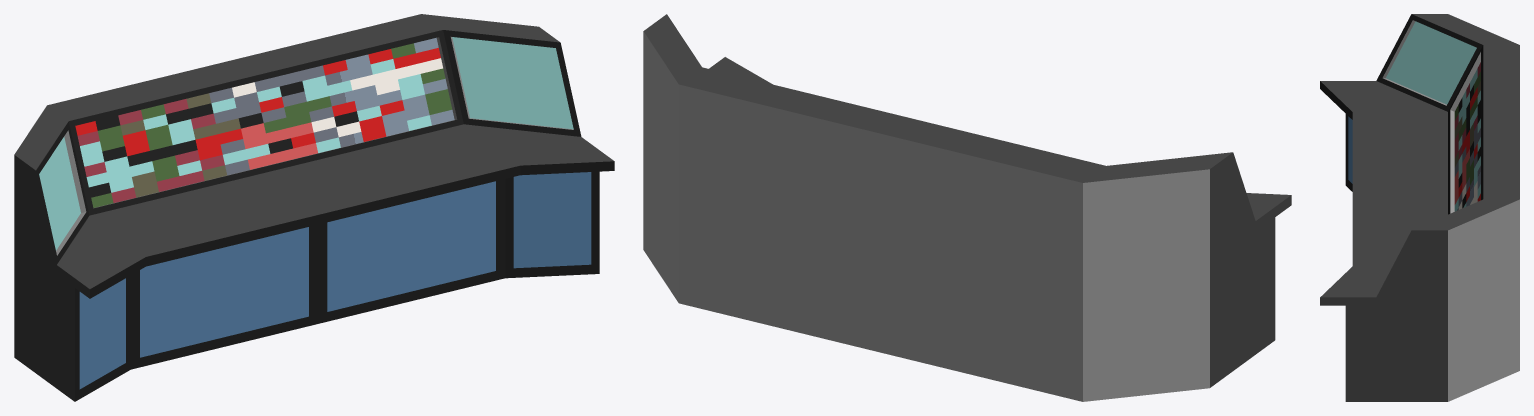
Rendered from MonitorTable.fbx.
3 renders of one model, left to right at view 1: azimuth 30°, elevation 25°; view 2: azimuth 150°, elevation 25°; view 3: azimuth 270°, elevation 25°, orthographic. The views are drawn at different scales.
Visible parts, largest first — view 1: MonitorTable; view 2: MonitorTable; view 3: MonitorTable.
Boxes of the visible parts, x1,y1,x2,y2 form: MonitorTable: (14,14,614,401); MonitorTable: (643,14,1291,401); MonitorTable: (1320,14,1519,401).
Size of the model in its own units: 888 by 328 by 346.
